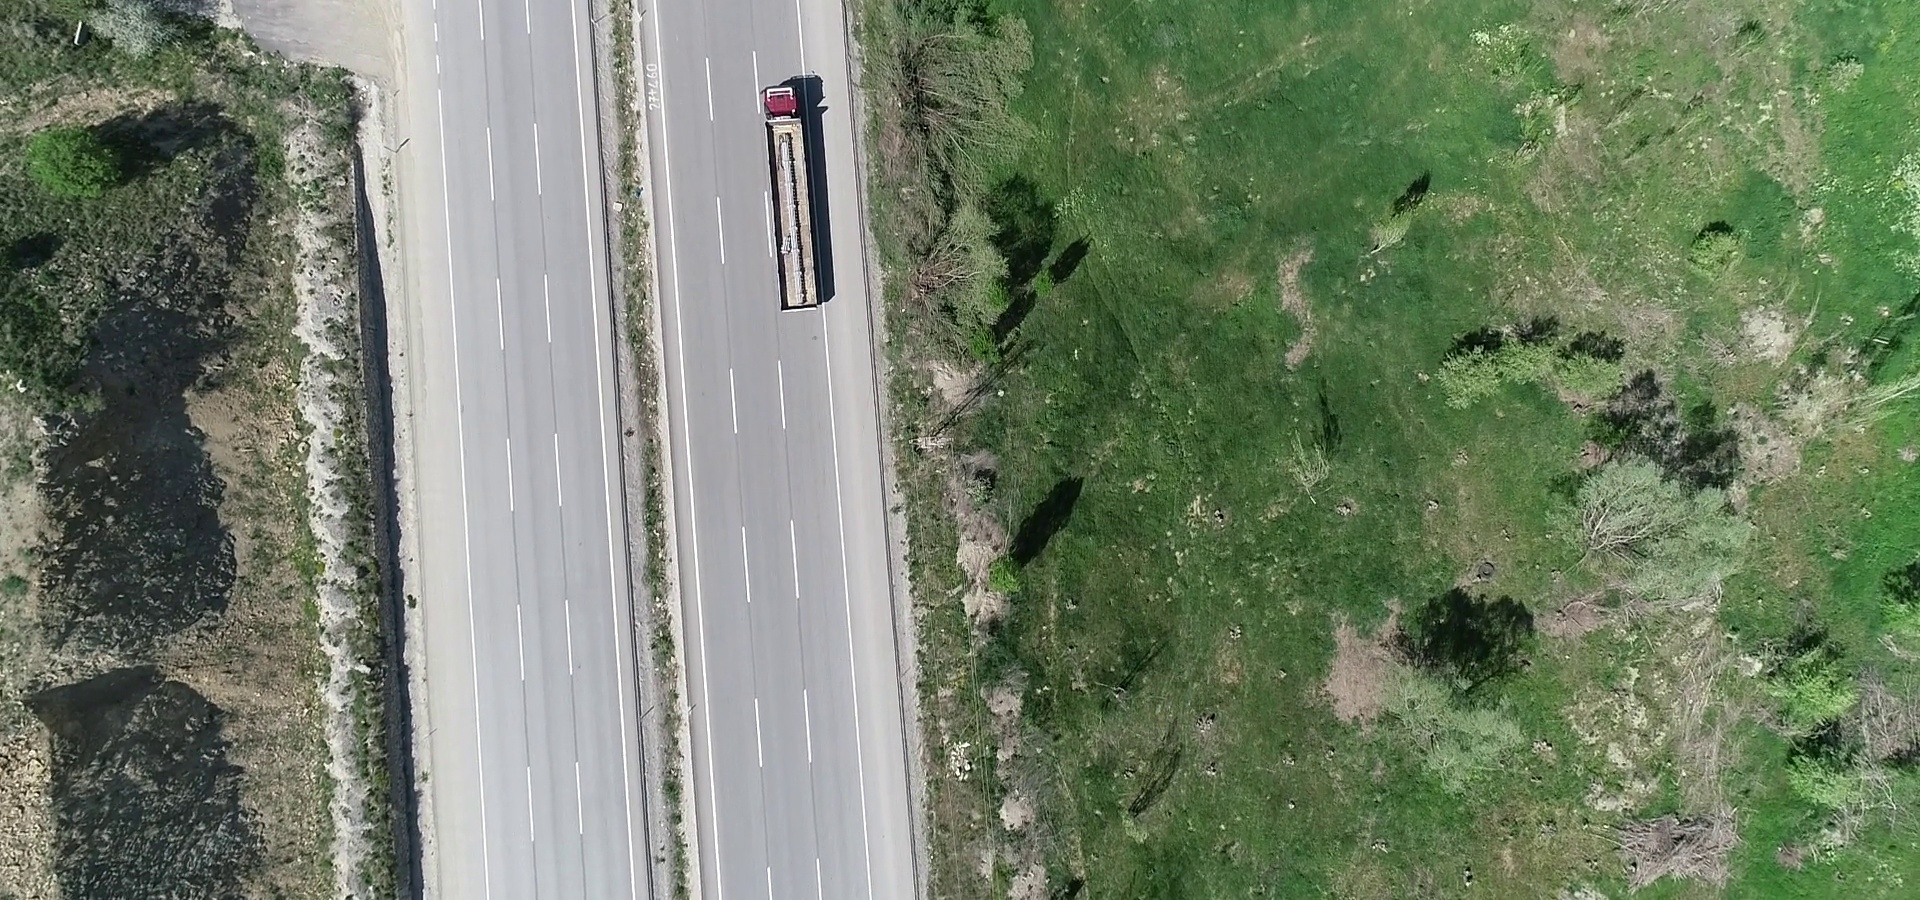arac: (757, 81, 828, 320)
